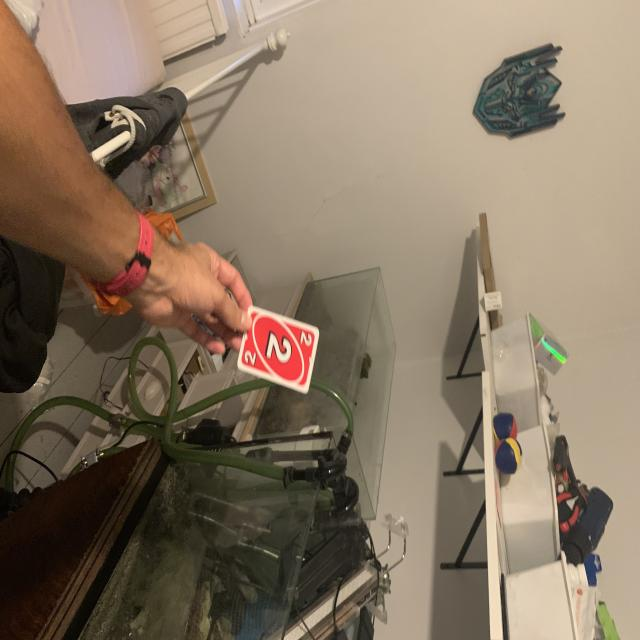lred-2: (244, 350, 258, 366)
